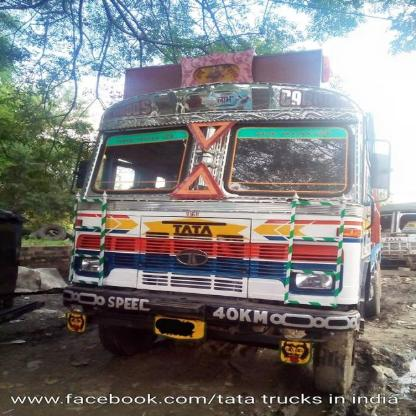truck: (58, 92, 384, 376)
